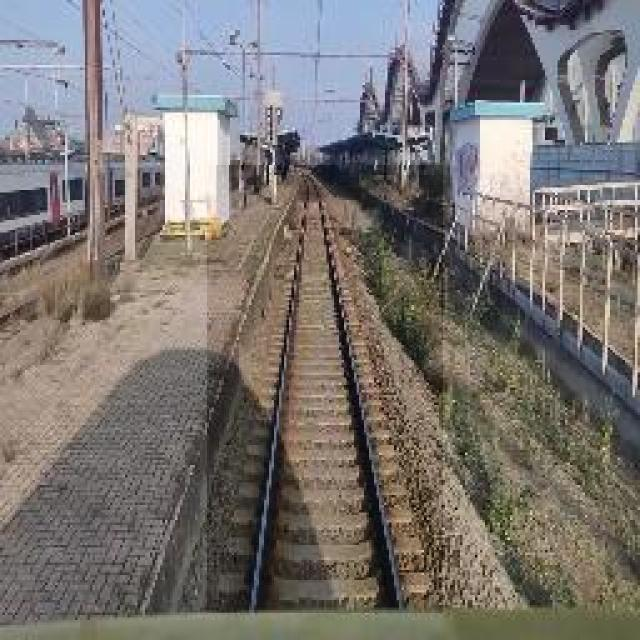rail: (209, 167, 444, 614)
